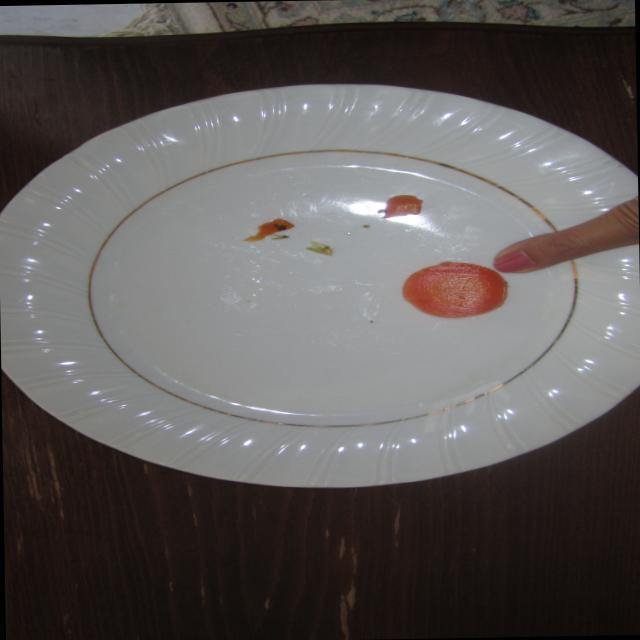Carrot: (400, 260, 516, 320)
Finger: (492, 227, 616, 280)
